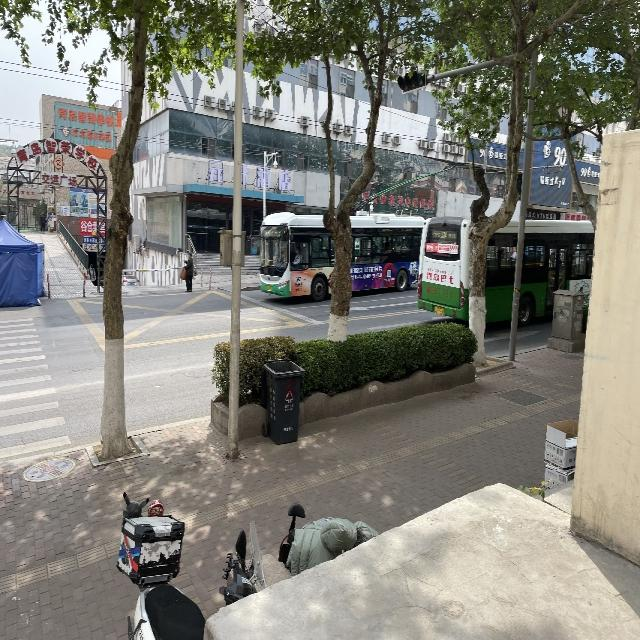garbage_bin: (262, 358, 304, 444)
